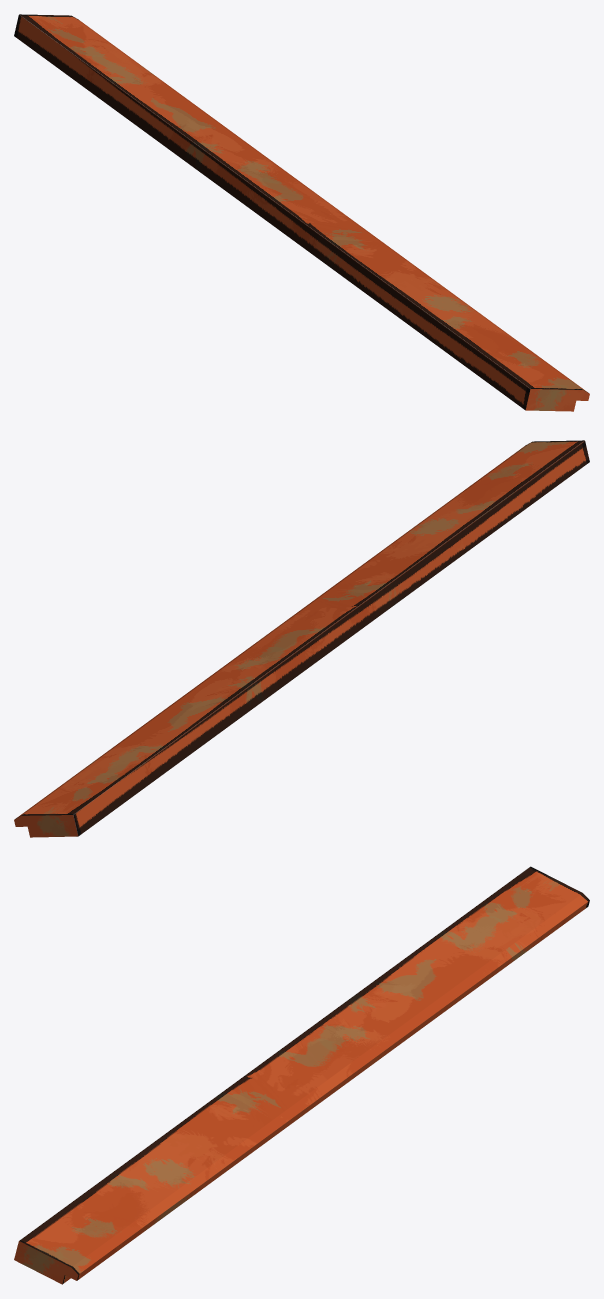
File: 1-RoofRed.fbx
3 renders of one model, top to bottom at view 1: azimuth 30°, elevation 25°; view 2: azimuth 150°, elevation 25°; view 3: azimuth 330°, elevation 25°, orthographic.
Visible parts, largest first — view 1: Cube.001; view 2: Cube.001; view 3: Cube.001.
Part boxes in pixels (box(x1,y1,x2,y2)): Cube.001: box(14, 14, 589, 411); Cube.001: box(14, 440, 589, 837); Cube.001: box(14, 866, 589, 1284).
Size of the model in its own units: 77.75 by 38.32 by 1069.
1 material, 1 textured.
